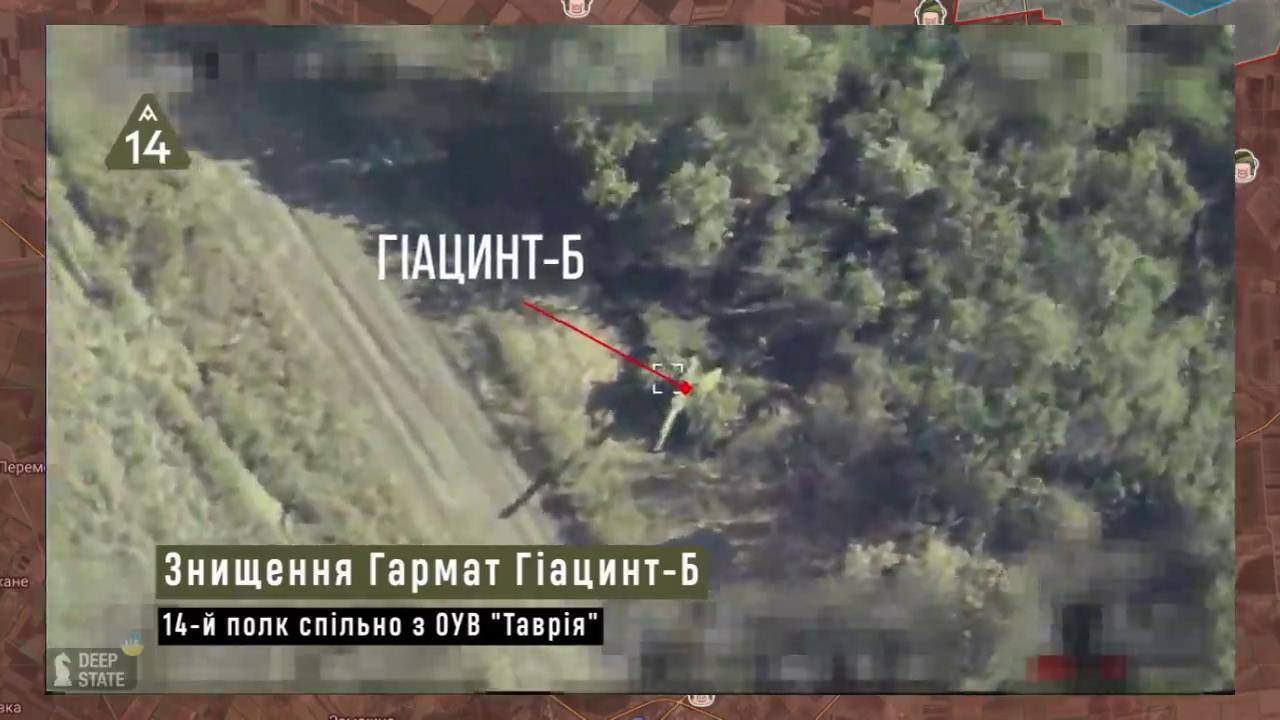tank: (625, 349, 735, 460)
